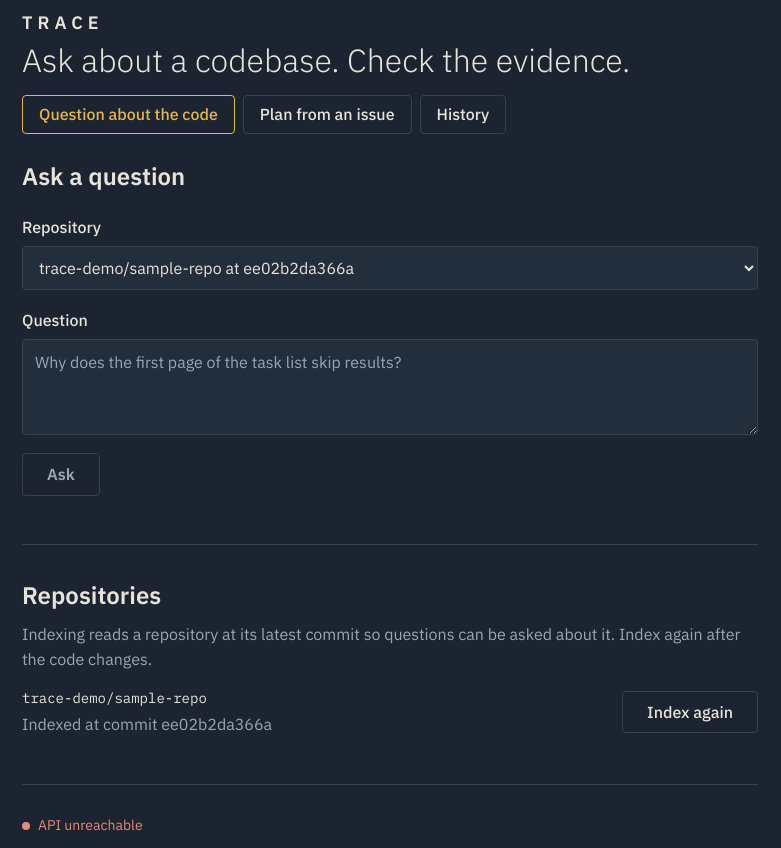
issue list › explains 502 github_unavailable in plain language, with the reference
This screenshot has width=781, height=848.
What coordinates should you click on to do the following:
click the button "Plan from an issue"
I would click on:
 (327, 115)
Its box is [243, 95, 412, 134].
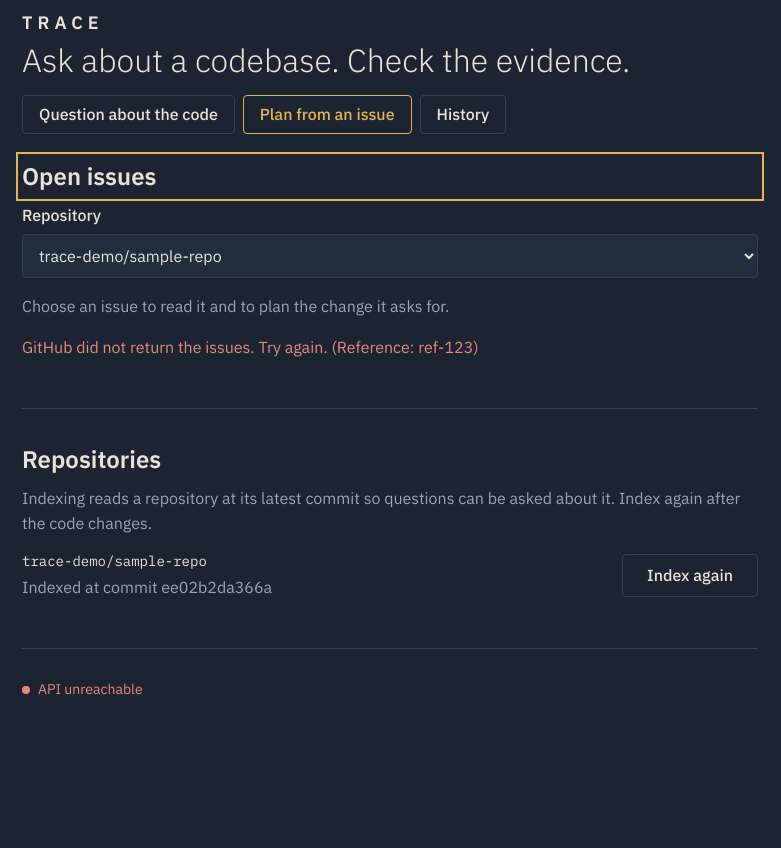
Check: the message "GitHub did not return the issues. Try again. (Reference: ref-123)" is shown, box [22, 337, 479, 357]
